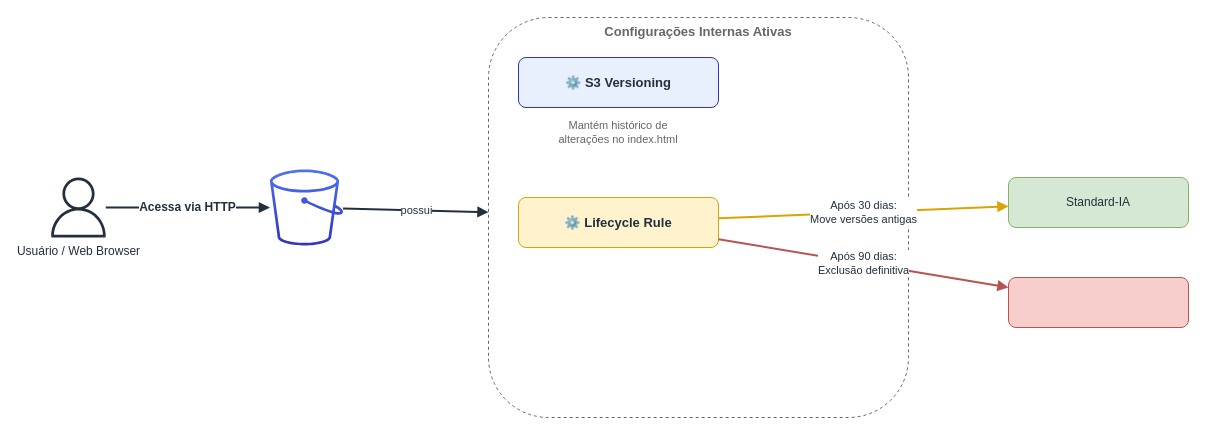
The diagram is 1206 pixels wide and 435 high, and some of its shapes have lost their labels. The shapes that lost their labels are listed below. From the top down, each one's box as (x1, y1, x2, y2) in pixels, then its label:
(268, 169, 344, 245): Amazon S3 Static Website Hosting
(1008, 276, 1188, 328): Exclusão Permanente
